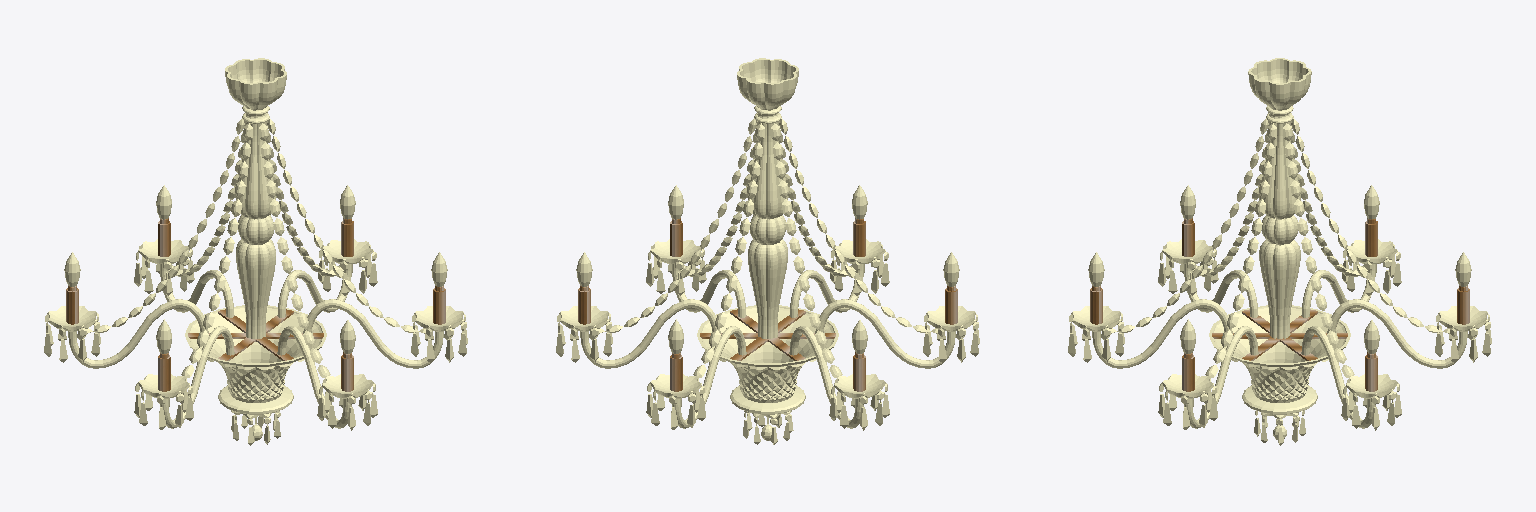
The picture shows the model from 3 angles: view 1: azimuth 30°, elevation 25°; view 2: azimuth 150°, elevation 25°; view 3: azimuth 270°, elevation 25°; orthographic projection.
Parts seen in each view (by area): view 1: Mesh179 Group149 Branch4 Model, Mesh249 Group205 Branch6 Model, Mesh2 Component_5_1 Model, Mesh109 Group93 Branch2 Model, Mesh74 Group65 Branch1 Model, Mesh144 Group121 Branch3 Model, Mesh214 Group177 Branch5 Model, Mesh8 Group7 Component_1_3 Base1 Model, Mesh10 Group9 Component_1_4 Base1 Model, Mesh38 Group37 Component_1_18 Base1 Model, Mesh290 Component_8_7 Colonne1 Model, Mesh338 Component_8_23 Colonne2 Model (+1 smaller); view 2: Mesh214 Group177 Branch5 Model, Mesh74 Group65 Branch1 Model, Mesh2 Component_5_1 Model, Mesh179 Group149 Branch4 Model, Mesh144 Group121 Branch3 Model, Mesh109 Group93 Branch2 Model, Mesh249 Group205 Branch6 Model, Mesh28 Group27 Component_1_13 Base1 Model, Mesh6 Group5 Component_1_2 Base1 Model, Mesh30 Group29 Component_1_14 Base1 Model, Mesh299 Component_8_16 Colonne1 Model, Mesh347 Component_8_32 Colonne2 Model (+1 smaller); view 3: Mesh109 Group93 Branch2 Model, Mesh144 Group121 Branch3 Model, Mesh2 Component_5_1 Model, Mesh214 Group177 Branch5 Model, Mesh249 Group205 Branch6 Model, Mesh74 Group65 Branch1 Model, Mesh179 Group149 Branch4 Model, Mesh20 Group19 Component_1_9 Base1 Model, Mesh18 Group17 Component_1_8 Base1 Model, Mesh22 Group21 Component_1_10 Base1 Model, Mesh284 Component_8_1 Colonne1 Model, Mesh296 Component_8_13 Colonne1 Model.
Boxes of the visible parts, x1=… form: Mesh179 Group149 Branch4 Model: x1=68, y1=299, x2=208, y2=368; Mesh249 Group205 Branch6 Model: x1=303, y1=299, x2=443, y2=368; Mesh2 Component_5_1 Model: x1=188, y1=309, x2=323, y2=360; Mesh109 Group93 Branch2 Model: x1=277, y1=326, x2=351, y2=428; Mesh74 Group65 Branch1 Model: x1=160, y1=326, x2=234, y2=428; Mesh144 Group121 Branch3 Model: x1=160, y1=264, x2=234, y2=317; Mesh214 Group177 Branch5 Model: x1=277, y1=264, x2=351, y2=317; Mesh8 Group7 Component_1_3 Base1 Model: x1=244, y1=363, x2=267, y2=414; Mesh10 Group9 Component_1_4 Base1 Model: x1=261, y1=360, x2=291, y2=414; Mesh38 Group37 Component_1_18 Base1 Model: x1=220, y1=360, x2=250, y2=414; Mesh290 Component_8_7 Colonne1 Model: x1=257, y1=245, x2=265, y2=338; Mesh338 Component_8_23 Colonne2 Model: x1=257, y1=124, x2=265, y2=218; Mesh214 Group177 Branch5 Model: x1=580, y1=299, x2=720, y2=368; Mesh74 Group65 Branch1 Model: x1=815, y1=299, x2=955, y2=368; Mesh2 Component_5_1 Model: x1=700, y1=309, x2=835, y2=360; Mesh179 Group149 Branch4 Model: x1=789, y1=326, x2=863, y2=428; Mesh144 Group121 Branch3 Model: x1=672, y1=326, x2=746, y2=428; Mesh109 Group93 Branch2 Model: x1=789, y1=264, x2=863, y2=317; Mesh249 Group205 Branch6 Model: x1=672, y1=264, x2=746, y2=317; Mesh28 Group27 Component_1_13 Base1 Model: x1=756, y1=363, x2=779, y2=414; Mesh6 Group5 Component_1_2 Base1 Model: x1=732, y1=360, x2=762, y2=414; Mesh30 Group29 Component_1_14 Base1 Model: x1=773, y1=360, x2=803, y2=414; Mesh299 Component_8_16 Colonne1 Model: x1=758, y1=245, x2=766, y2=338; Mesh347 Component_8_32 Colonne2 Model: x1=758, y1=124, x2=766, y2=218; Mesh109 Group93 Branch2 Model: x1=1092, y1=299, x2=1232, y2=368; Mesh144 Group121 Branch3 Model: x1=1327, y1=299, x2=1467, y2=368; Mesh2 Component_5_1 Model: x1=1212, y1=309, x2=1347, y2=360; Mesh214 Group177 Branch5 Model: x1=1301, y1=326, x2=1375, y2=428; Mesh249 Group205 Branch6 Model: x1=1184, y1=326, x2=1258, y2=428; Mesh74 Group65 Branch1 Model: x1=1184, y1=264, x2=1258, y2=317; Mesh179 Group149 Branch4 Model: x1=1301, y1=264, x2=1375, y2=317; Mesh20 Group19 Component_1_9 Base1 Model: x1=1268, y1=363, x2=1291, y2=414; Mesh18 Group17 Component_1_8 Base1 Model: x1=1244, y1=360, x2=1274, y2=414; Mesh22 Group21 Component_1_10 Base1 Model: x1=1285, y1=360, x2=1315, y2=414; Mesh284 Component_8_1 Colonne1 Model: x1=1265, y1=244, x2=1276, y2=338; Mesh296 Component_8_13 Colonne1 Model: x1=1283, y1=244, x2=1294, y2=338.
Bounding box in the file's own units: 716 × 770 × 802.
Materials: 3 (1 with a texture image).